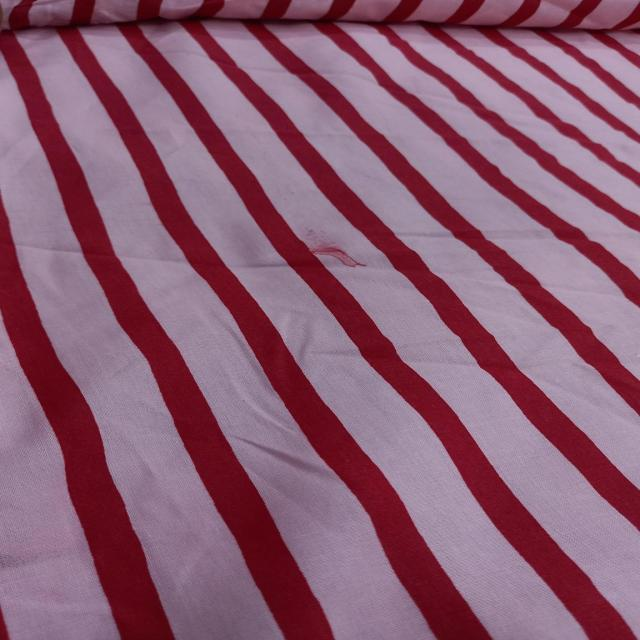color issues: (289, 224, 390, 283)
